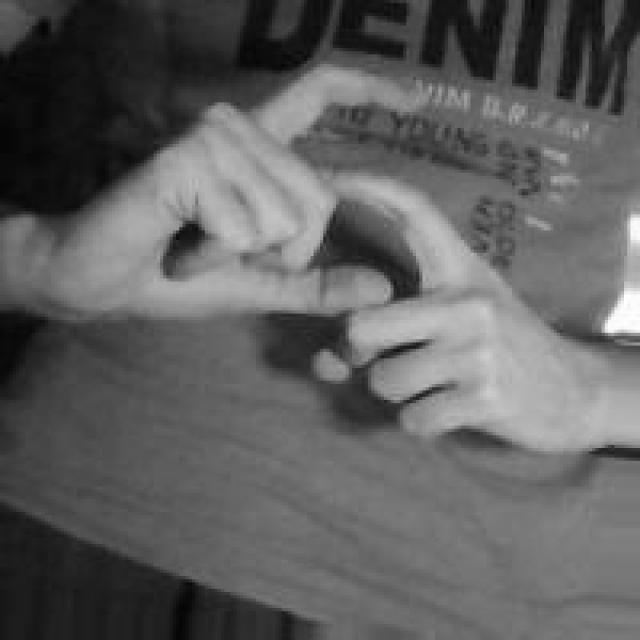G: (89, 63, 569, 457)
